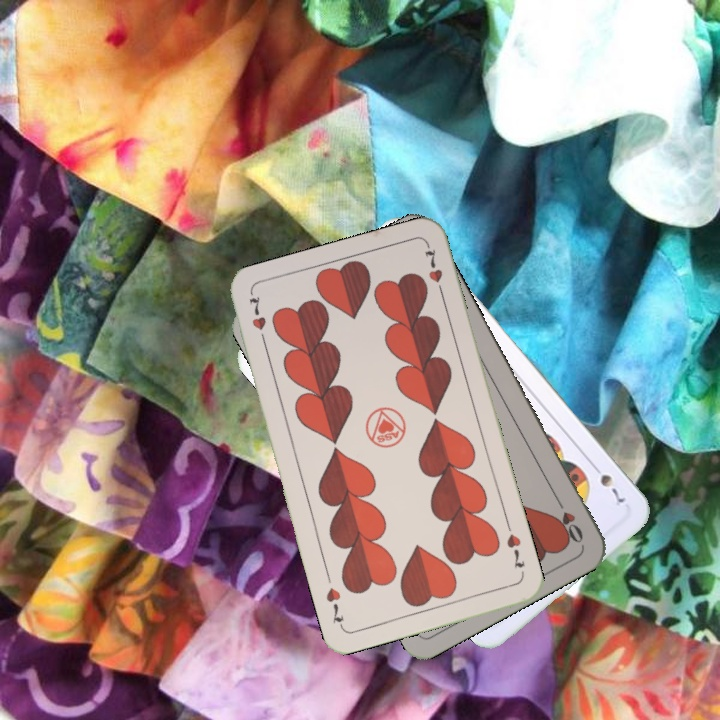H7: (245, 290, 270, 349), (502, 530, 528, 571)
HO: (551, 492, 586, 546)
S7: (587, 458, 627, 509)
